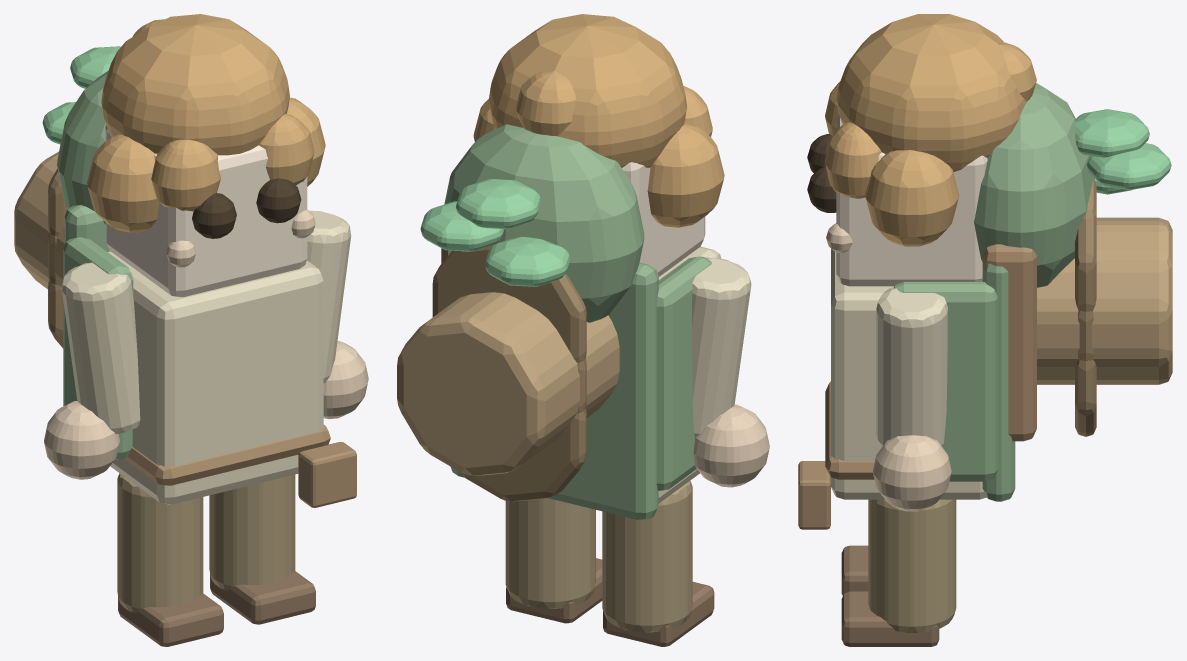
The model's file is npc_quill.glb.
3 views of the same model, side by side, from view 1: azimuth 30°, elevation 25°; view 2: azimuth 150°, elevation 25°; view 3: azimuth 270°, elevation 25° (orthographic). The views are drawn at different scales.
Parts seen in each view (by area): view 1: Body, Hair_(0, 0.04, 1.18), Head, Arm_L, Leg_L, Leg_R, Hair_(-0.16, 0.0, 1.06), Hand_L, Hood, Arm_R, PackLog, Hair_(-0.1, -0.1, 1.1) (+17 smaller); view 2: PackLog, Hair_(0, 0.04, 1.18), Hood, CloakBack, Leg_L, Leg_R, CloakL, Arm_L, PackBand2, Hair_(-0.16, 0.0, 1.06), Hand_L, PackBand0 (+9 smaller); view 3: Hair_(0, 0.04, 1.18), PackLog, Hood, Leg_R, CloakR, Arm_R, Body, Head, Hair_(0.16, 0.0, 1.06), Strap, Hand_R, CloakBack (+14 smaller).
Boxes of the visible parts, box(x1,y1,x2,y2) form: Body: box(108, 251, 323, 504); Hair_(0, 0.04, 1.18): box(101, 14, 289, 155); Head: box(105, 125, 307, 297); Arm_L: box(61, 262, 140, 433); Leg_L: box(117, 473, 203, 613); Leg_R: box(209, 474, 295, 590); Hair_(-0.16, 0.0, 1.06): box(87, 134, 159, 232); Hand_L: box(44, 401, 119, 479); Hood: box(57, 71, 108, 224); Arm_R: box(307, 210, 351, 383); PackLog: box(14, 151, 64, 291); Hair_(-0.1, -0.1, 1.1): box(151, 139, 220, 211); PackLog: box(397, 292, 619, 475); Hair_(0, 0.04, 1.18): box(488, 14, 686, 167); Hood: box(444, 124, 644, 322); CloakBack: box(451, 262, 658, 519); Leg_L: box(602, 481, 692, 632); Leg_R: box(505, 498, 595, 608); CloakL: box(656, 256, 711, 490); Arm_L: box(692, 257, 751, 437); PackBand2: box(432, 240, 586, 362); Hair_(-0.16, 0.0, 1.06): box(647, 122, 724, 227); Hand_L: box(693, 404, 769, 487); PackBand0: box(459, 409, 586, 501); Hair_(0, 0.04, 1.18): box(836, 14, 1026, 171); PackLog: box(1037, 217, 1172, 384); Hood: box(974, 83, 1094, 287); Leg_R: box(868, 499, 956, 632); CloakR: box(894, 281, 997, 481); Arm_R: box(876, 287, 947, 447); Body: box(831, 249, 986, 499); Head: box(836, 114, 987, 286); Hair_(0.16, 0.0, 1.06): box(865, 150, 959, 246); Strap: box(982, 244, 1036, 441); Hand_R: box(872, 435, 951, 511); CloakBack: box(982, 263, 1015, 501).
Bounding box in the file's own units: 0.6827 × 1.19 × 0.69.
